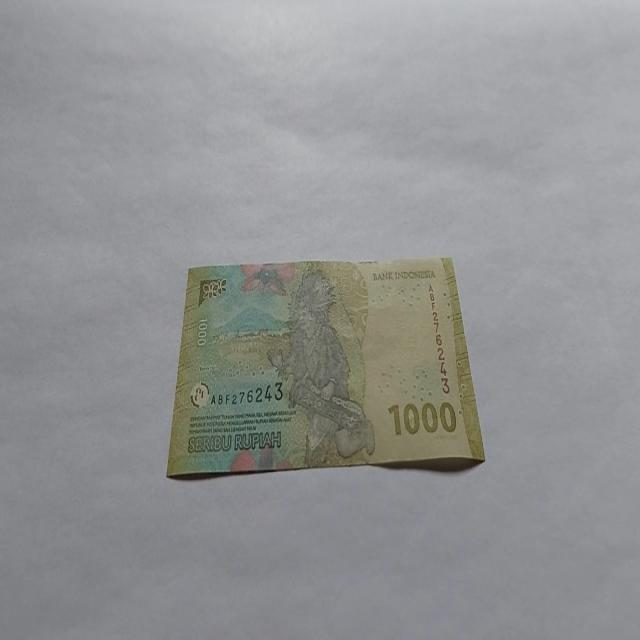seribu rupiah kertas: (165, 254, 486, 479)
